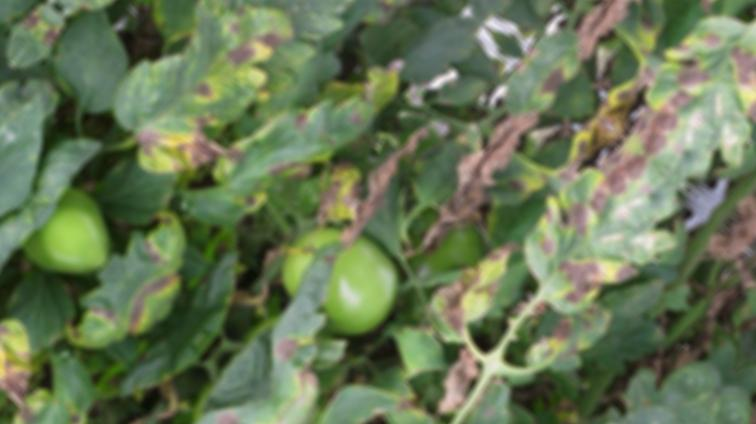Tomato Early blight leaf: (172, 14, 401, 273), (87, 0, 322, 205), (497, 124, 692, 329), (224, 237, 407, 424), (408, 232, 535, 362), (104, 201, 232, 326), (516, 268, 631, 394), (53, 0, 229, 44), (488, 54, 566, 130), (376, 397, 490, 424), (462, 423, 571, 424)
